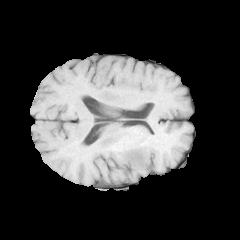glioma: (121, 145, 147, 167)
